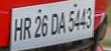2: (34, 16, 42, 39)
3: (86, 7, 92, 30)
4: (81, 8, 87, 30), (75, 9, 81, 30)
5: (68, 10, 75, 32)
6: (41, 14, 49, 37)
A: (58, 12, 68, 34)
D: (50, 13, 59, 36)
H: (14, 17, 23, 41)
R: (23, 17, 33, 40)
